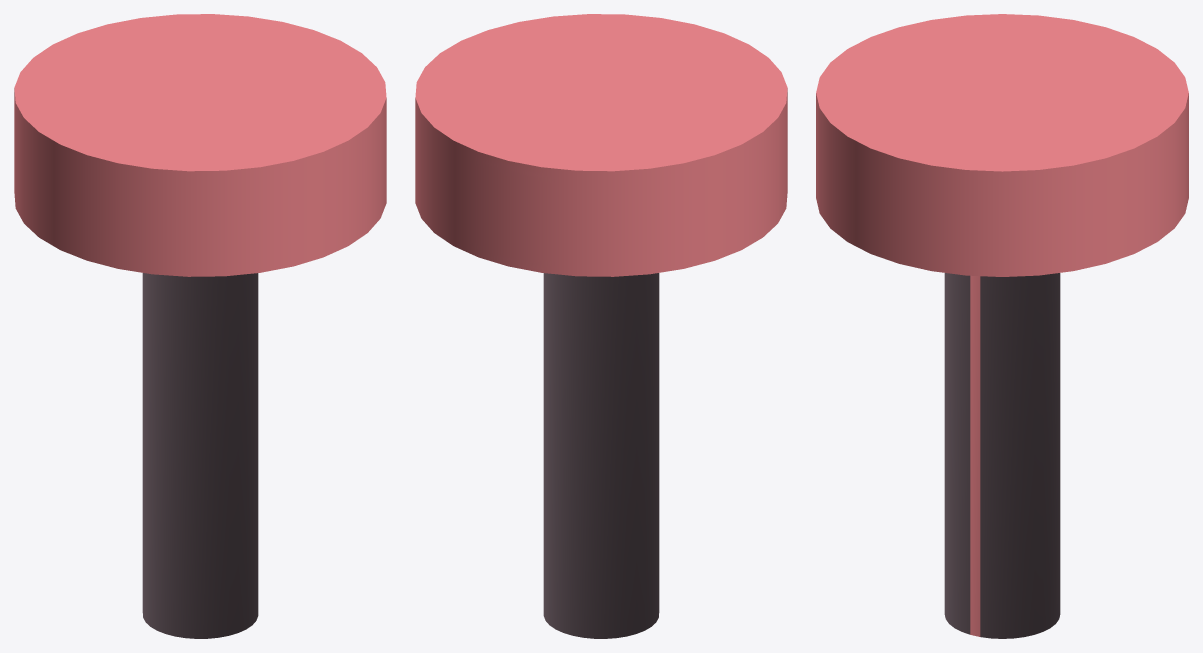
Rendered from dingzi.FBX.
3 renders of one model, left to right at view 1: azimuth 30°, elevation 25°; view 2: azimuth 150°, elevation 25°; view 3: azimuth 270°, elevation 25°, orthographic.
Parts seen in each view (by area): view 1: Cylinder001; view 2: Cylinder001; view 3: Cylinder001.
Part boxes in pixels (<box>): Cylinder001: <box>14,14,386,638</box>; Cylinder001: <box>415,14,787,638</box>; Cylinder001: <box>816,14,1188,638</box>.
Bounding box in the file's own units: 6.69 × 10.33 × 6.69.
Materials: 1 (1 with a texture image).
